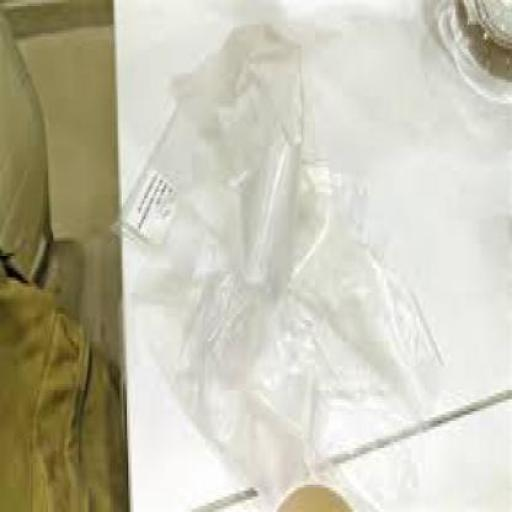plastic: (106, 15, 440, 509)
